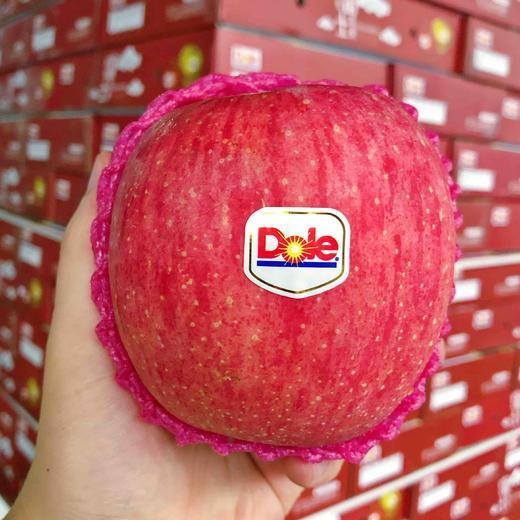apple: (91, 68, 456, 447)
